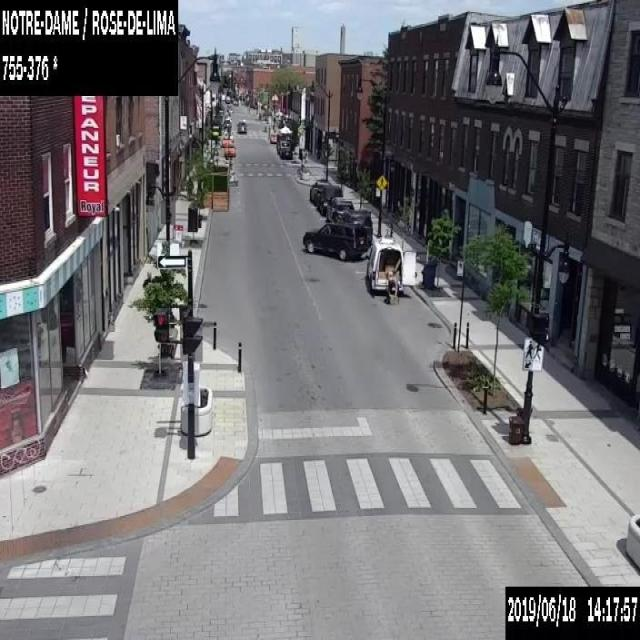pedestrian: (385, 271, 399, 303)
vehicle: (366, 237, 416, 293), (302, 223, 366, 258), (337, 209, 372, 244), (325, 196, 354, 224), (317, 184, 342, 213), (309, 180, 332, 203), (276, 140, 290, 152), (224, 142, 235, 157), (280, 147, 292, 159), (236, 119, 247, 132), (224, 131, 232, 140), (222, 137, 230, 145), (270, 132, 276, 142), (225, 95, 229, 102), (233, 100, 237, 104)
